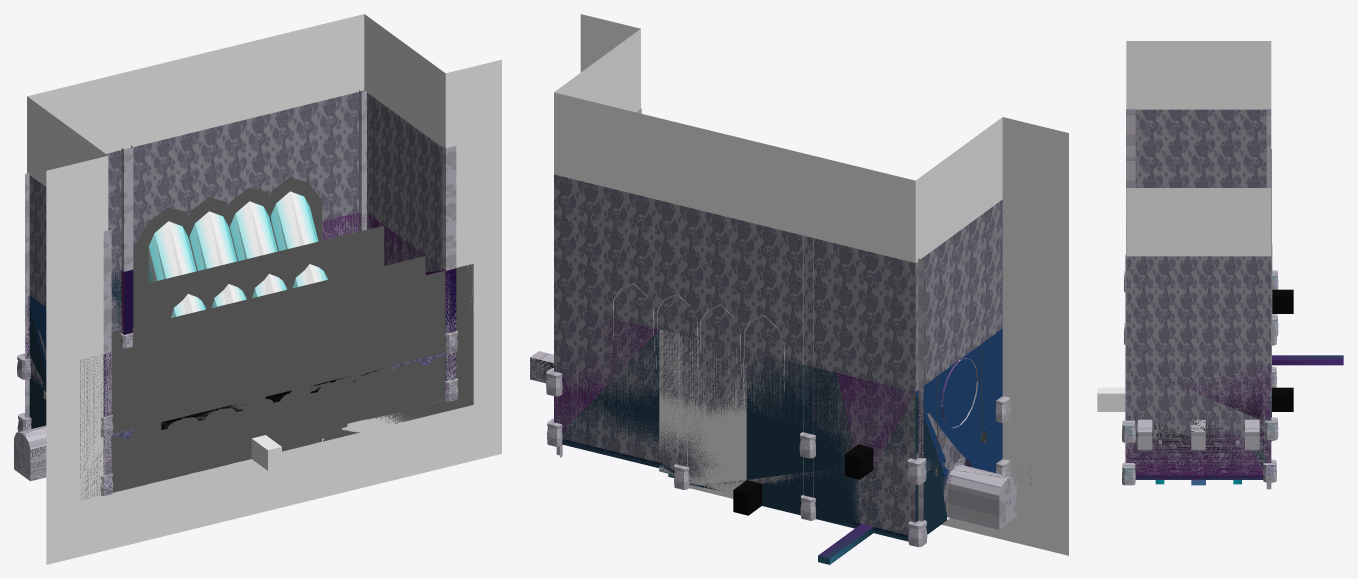
File: jin_00.dae
3 views of the same model, side by side, from view 1: azimuth 30°, elevation 25°; view 2: azimuth 150°, elevation 25°; view 3: azimuth 270°, elevation 25° (orthographic). The views are drawn at different scales.
Parts seen in each view (by area): view 1: MASUKU, S_kabe_oku_part0, polySurface112, polySurface116, polySurface114, polySurface115, S_side_r_part0, polySurface144, polySurface146, hikariA, hikariD, hikariB (+24 smaller); view 2: S_kabe_oku_part0, MASUKU, polySurface121, S_kabe_l_part0, polySurface124, a_gawa03, polySurface118, polySurface120, S_kabe_l_part2, pCube13_q00123, S_kabe_oku_part1, S_kabe_oku_part2; view 3: S_side_r_part0, MASUKU, S_kabe_l_part0, polySurface110, S_side_r_part2, pCube15_q00125, S_kabe_oku_part2, A_gjin00_s_bero2, S_side_r_part1, polySurface121, polySurface120, pCube16_q00126.
Part boxes in pixels (box(x1,y1,x2,y2)): MASUKU: box(27, 14, 501, 564); S_kabe_oku_part0: box(106, 90, 363, 333); polySurface112: box(347, 263, 473, 435); polySurface116: box(181, 314, 265, 475); polySurface114: box(265, 294, 347, 451); polySurface115: box(80, 335, 181, 499); S_side_r_part0: box(364, 90, 442, 272); polySurface144: box(263, 225, 384, 289); polySurface146: box(169, 255, 263, 318); hikariA: box(148, 221, 205, 317); hikariD: box(270, 191, 327, 288); hikariB: box(189, 211, 246, 307); S_kabe_oku_part0: box(554, 174, 915, 534); MASUKU: box(554, 14, 1068, 555); polySurface121: box(733, 353, 837, 522); S_kabe_l_part0: box(915, 199, 1002, 513); polySurface124: box(659, 329, 746, 498); a_gawa03: box(915, 328, 1006, 534); polySurface118: box(554, 312, 659, 467); polySurface120: box(837, 373, 915, 538); S_kabe_l_part2: box(947, 457, 1016, 529); pCube13_q00123: box(918, 258, 923, 521); S_kabe_oku_part1: box(562, 439, 908, 541); S_kabe_oku_part2: box(818, 524, 873, 564); S_side_r_part0: box(1126, 256, 1271, 475); MASUKU: box(1126, 41, 1271, 256); S_kabe_l_part0: box(1135, 109, 1266, 187); polySurface110: box(1126, 364, 1271, 479); S_side_r_part2: box(1137, 419, 1259, 450); pCube15_q00125: box(1126, 109, 1135, 253); S_kabe_oku_part2: box(1272, 355, 1343, 365); A_gjin00_s_bero2: box(1097, 387, 1125, 411); S_side_r_part1: box(1135, 475, 1263, 479); polySurface121: box(1272, 387, 1293, 411); polySurface120: box(1272, 289, 1293, 313); pCube16_q00126: box(1125, 254, 1126, 462).
Size of the model in its own units: 162 by 134 by 85.
